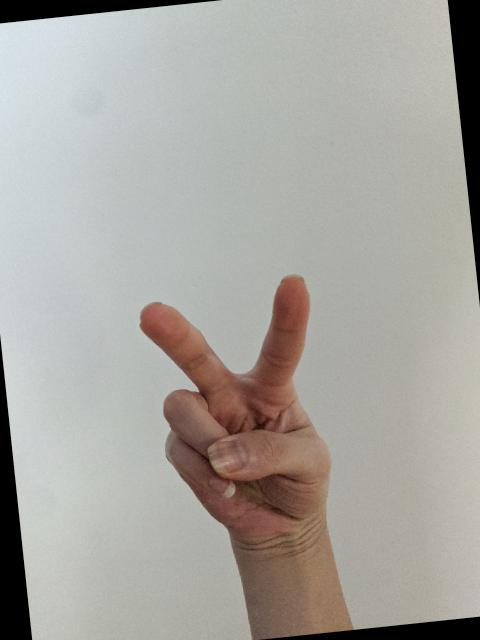V: (128, 266, 346, 550)
